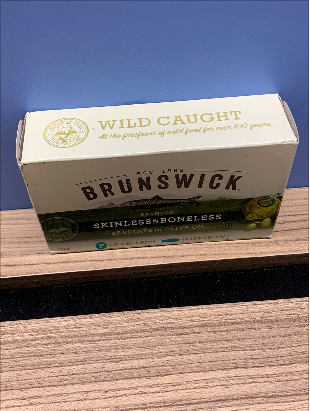Sardines_100-199g: (44, 118, 274, 230)
